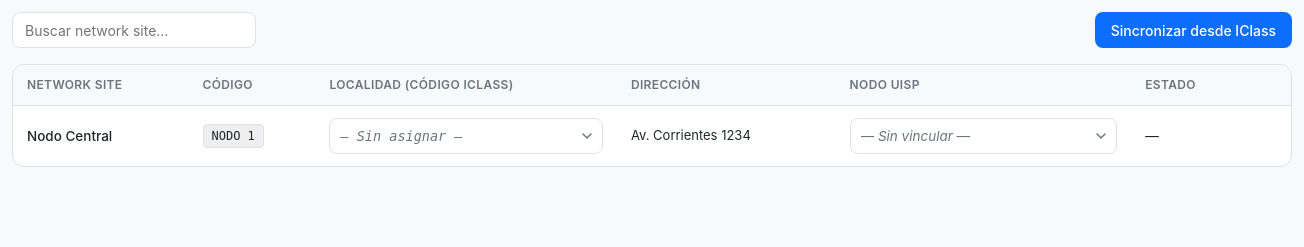
Scenario: UispNodeMappingBody — IClass node select (#45) › SCEN-NS-09: after a successful sync, the result counts are shown
What coordinates should you click on to do the following:
click the button "Sincronizar desde IClass"
I would click on:
 (1193, 30)
Its box is [1095,12,1292,48].
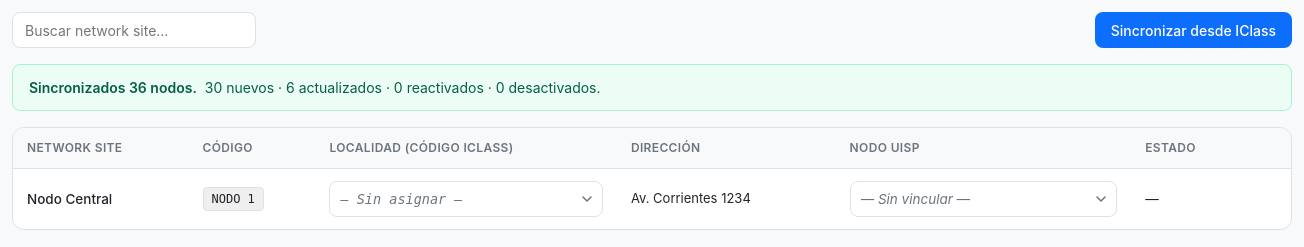
Expected: the text "6 actualizados" is shown, [12,64,1292,111]
